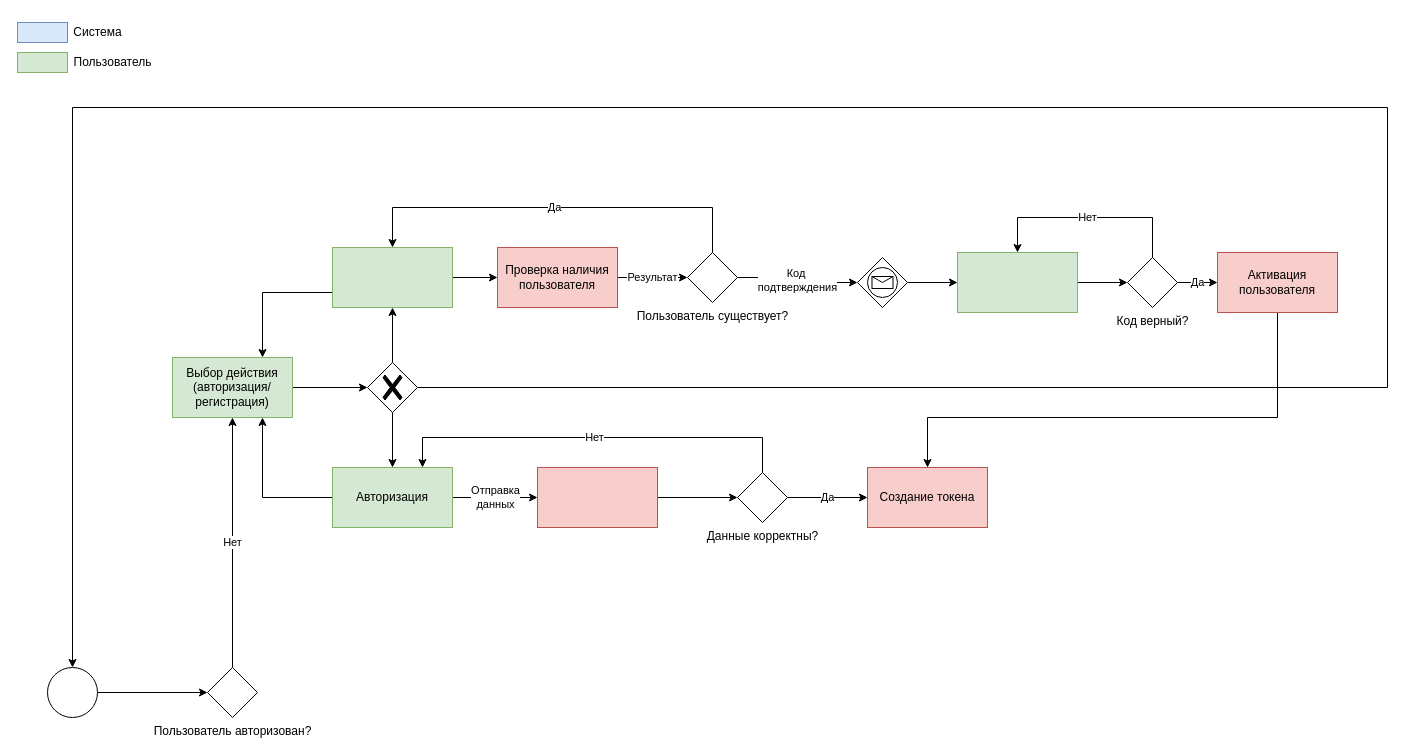
The diagram is 1413 pixels wide and 755 high, and some of its shapes have lost their labels. The shapes that lost their labels are listed below. From the top down, each one's centre as x and y in pixels, then its label:
At pixel 392 277: "Регистрация".
At pixel 1017 282: "Ввод кода подтверждения".
At pixel 597 497: "Проверка корректности данных".
At pixel 72 692: "Начало".
